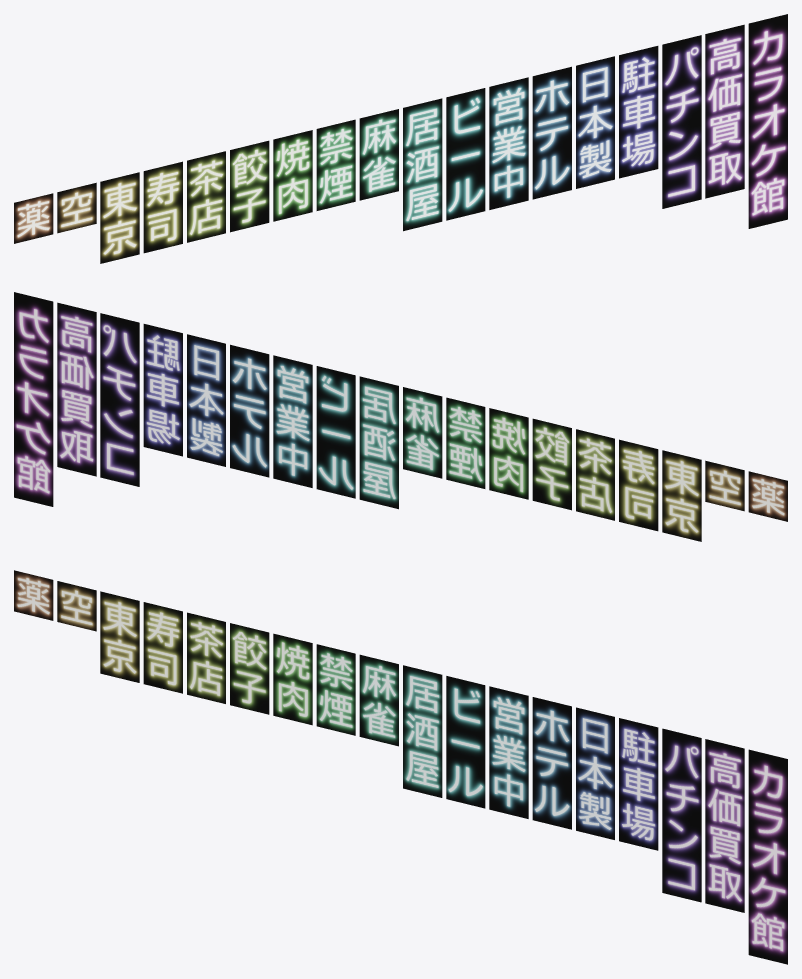
The picture shows the model from 3 angles, top to bottom: view 1: azimuth 30°, elevation 25°; view 2: azimuth 150°, elevation 25°; view 3: azimuth 330°, elevation 25°; orthographic projection.
Parts seen in each view (by area): view 1: sign.017, sign.015, sign.016, sign.009, sign.012, sign.014, sign.010, sign.011, sign.013, sign.002, sign.006, sign.008 (+6 smaller); view 2: sign.017, sign.015, sign.016, sign.009, sign.012, sign.014, sign.010, sign.011, sign.013, sign.002, sign.006, sign.008 (+6 smaller); view 3: sign.017, sign.015, sign.016, sign.014, sign.011, sign.012, sign.009, sign.010, sign.013, sign.002, sign.003, sign.005 (+6 smaller).
Part boxes in pixels (left/top/right/bottom): sign.017: left=748, top=14, right=787, bottom=228; sign.015: left=662, top=35, right=701, bottom=208; sign.016: left=705, top=24, right=744, bottom=198; sign.009: left=403, top=98, right=442, bottom=231; sign.012: left=532, top=66, right=571, bottom=199; sign.014: left=619, top=46, right=658, bottom=178; sign.010: left=446, top=88, right=485, bottom=220; sign.011: left=489, top=77, right=528, bottom=209; sign.013: left=576, top=56, right=614, bottom=188; sign.002: left=100, top=172, right=139, bottom=263; sign.006: left=273, top=130, right=312, bottom=221; sign.008: left=359, top=109, right=398, bottom=200; sign.017: left=14, top=292, right=53, bottom=506; sign.015: left=100, top=313, right=139, bottom=486; sign.016: left=57, top=302, right=96, bottom=476; sign.009: left=359, top=376, right=398, bottom=509; sign.012: left=230, top=344, right=269, bottom=477; sign.014: left=143, top=324, right=182, bottom=456; sign.010: left=316, top=366, right=355, bottom=498; sign.011: left=273, top=355, right=312, bottom=487; sign.013: left=187, top=334, right=225, bottom=466; sign.002: left=662, top=450, right=701, bottom=541; sign.006: left=489, top=408, right=528, bottom=499; sign.008: left=403, top=387, right=442, bottom=478; sign.017: left=748, top=749, right=787, bottom=964; sign.015: left=662, top=728, right=701, bottom=902; sign.016: left=705, top=739, right=744, bottom=912; sign.014: left=619, top=718, right=658, bottom=850; sign.011: left=489, top=686, right=528, bottom=818; sign.012: left=532, top=697, right=571, bottom=829; sign.009: left=403, top=665, right=442, bottom=797; sign.010: left=446, top=676, right=485, bottom=808; sign.013: left=576, top=707, right=614, bottom=839; sign.002: left=100, top=591, right=139, bottom=682; sign.003: left=143, top=602, right=182, bottom=693; sign.005: left=230, top=623, right=269, bottom=714.
Size of the model in its own units: 3940 by 1000 by 4.37e-05.
18 materials, 18 textured.
